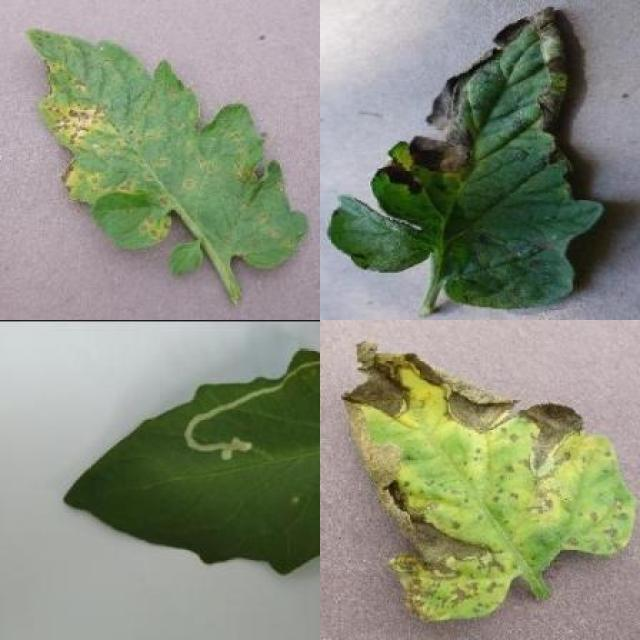Early Blight: (327, 4, 604, 309)
Leaf Miner: (61, 345, 320, 581)
Septoria: (344, 343, 639, 623), (26, 31, 310, 269)
